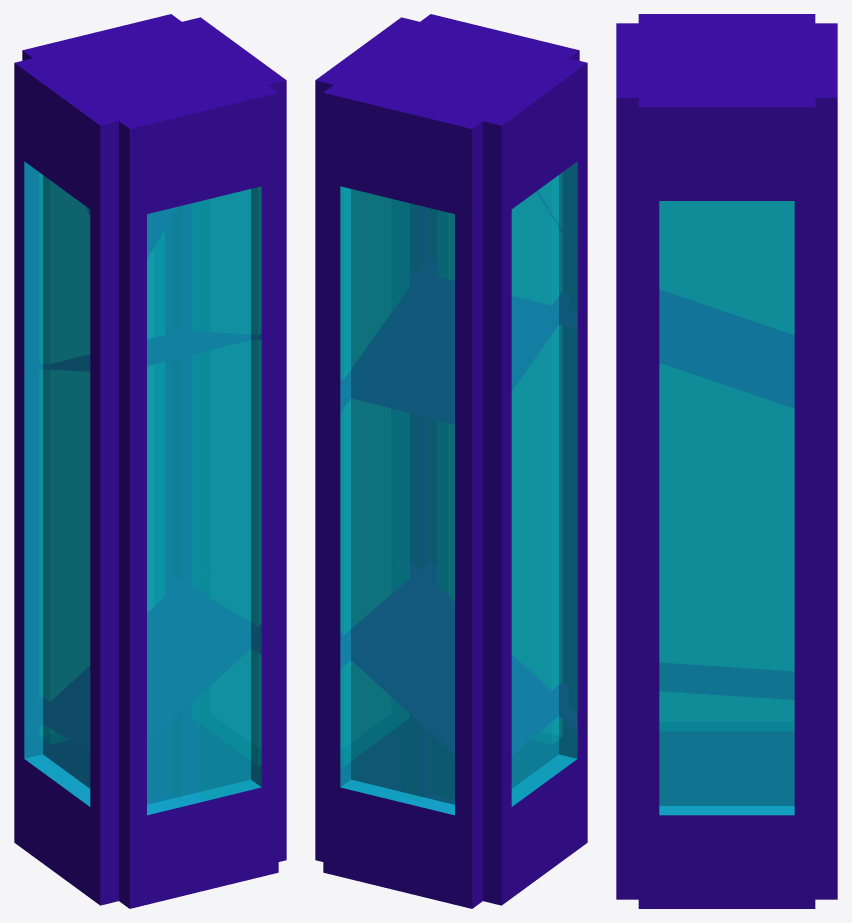
Rendered from skyscraperExtra.gltf.
The picture shows the model from 3 angles, left to right: view 1: azimuth 30°, elevation 25°; view 2: azimuth 150°, elevation 25°; view 3: azimuth 270°, elevation 25°; orthographic projection. The views are drawn at different scales.
Visible parts, largest first — view 1: Cube, Cube_cell.001, Cube_cell.002, Cube_cell.003, Cube_cell; view 2: Cube, Cube_cell.001, Cube_cell.002, Cube_cell, Cube_cell.003; view 3: Cube, Cube_cell.001, Cube_cell.002, Cube_cell, Cube_cell.003.
Boxes of the visible parts, bbox=[...] form: Cube: bbox=[14, 14, 286, 908]; Cube_cell.001: bbox=[24, 340, 261, 751]; Cube_cell.002: bbox=[14, 14, 286, 377]; Cube_cell.003: bbox=[14, 60, 276, 336]; Cube_cell: bbox=[24, 649, 285, 858]; Cube: bbox=[315, 14, 587, 908]; Cube_cell.001: bbox=[315, 324, 577, 797]; Cube_cell.002: bbox=[315, 14, 587, 444]; Cube_cell: bbox=[315, 627, 577, 908]; Cube_cell.003: bbox=[438, 17, 587, 272]; Cube: bbox=[616, 14, 837, 903]; Cube_cell.001: bbox=[616, 348, 837, 674]; Cube_cell.002: bbox=[616, 19, 837, 422]; Cube_cell: bbox=[616, 658, 837, 908]; Cube_cell.003: bbox=[616, 14, 813, 96].
Bounding box in the file's own units: 5 × 20 × 5.
